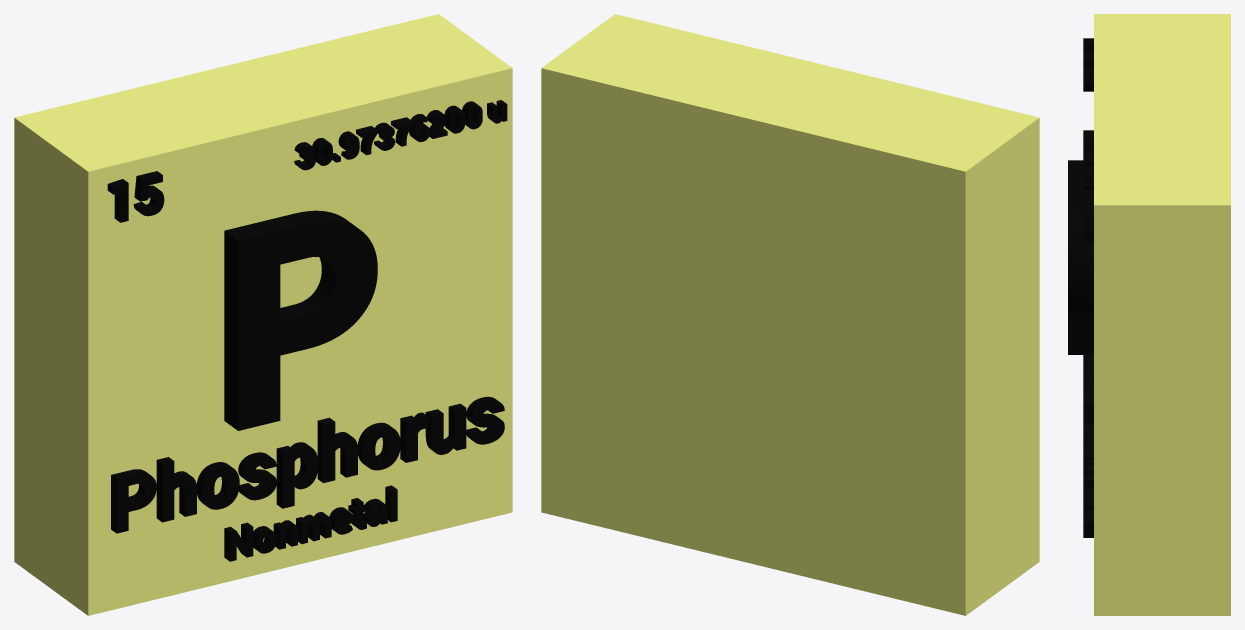
The picture shows the model from 3 angles, left to right: view 1: azimuth 30°, elevation 25°; view 2: azimuth 150°, elevation 25°; view 3: azimuth 270°, elevation 25°; orthographic projection. The views are drawn at different scales.
Visible parts, largest first — view 1: Cube, Text, Text.001, Text.004, Text.002, Text.003; view 2: Cube; view 3: Cube, Text, Text.001, Text.004, Text.003.
Boxes of the visible parts, x1,y1,x2,y2 form: Cube: [14, 14, 512, 615]; Text: [224, 210, 377, 430]; Text.001: [111, 396, 504, 533]; Text.004: [294, 100, 507, 170]; Text.002: [224, 485, 397, 561]; Text.003: [107, 171, 164, 222]; Cube: [541, 14, 1039, 615]; Cube: [1094, 14, 1230, 615]; Text: [1068, 160, 1093, 354]; Text.001: [1083, 355, 1093, 530]; Text.004: [1083, 130, 1093, 242]; Text.003: [1083, 38, 1093, 91].
Bounding box in the file's own units: 178 × 178 × 63.95.
